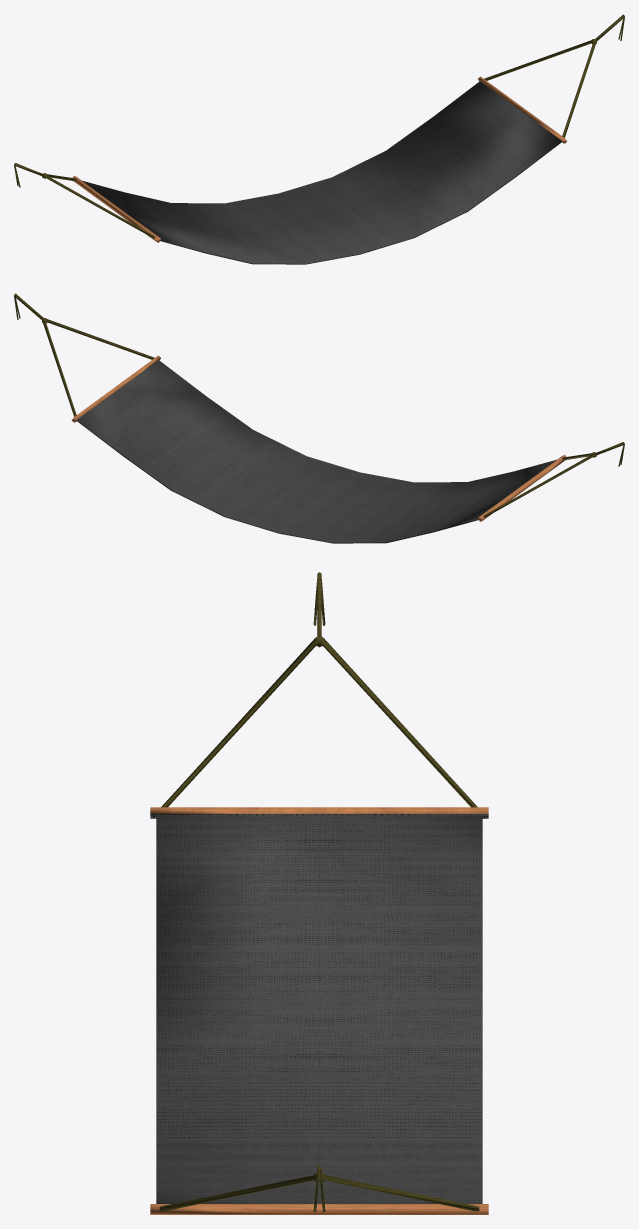
Rendered from Hammock.fbx.
3 renders of one model, top to bottom at view 1: azimuth 30°, elevation 25°; view 2: azimuth 150°, elevation 25°; view 3: azimuth 270°, elevation 25°, orthographic. The views are drawn at different scales.
Parts seen in each view (by area): view 1: Hammock; view 2: Hammock; view 3: Hammock.
Part boxes in pixels (x1,y1,x2,y2): Hammock: (14, 14, 624, 264); Hammock: (14, 293, 624, 543); Hammock: (150, 572, 488, 1214).
Bounding box in the file's own units: 864 × 184 × 207.
